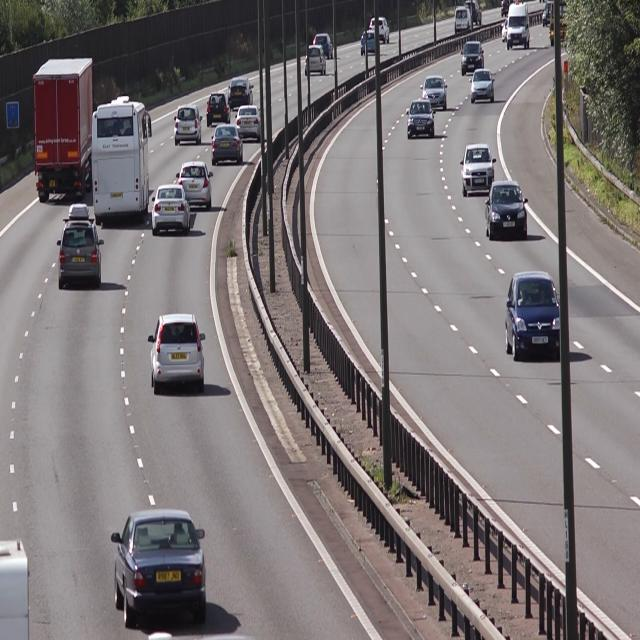Car: (114, 507, 209, 622), (32, 54, 96, 205), (92, 93, 152, 223), (505, 270, 567, 366), (148, 314, 208, 395), (57, 200, 105, 294), (487, 181, 530, 240), (150, 181, 190, 235), (176, 158, 214, 211), (462, 142, 497, 197), (210, 120, 244, 165), (408, 97, 436, 140), (174, 105, 204, 143), (507, 6, 532, 49), (470, 67, 498, 104), (205, 88, 232, 126), (423, 76, 449, 111), (461, 41, 486, 76), (236, 105, 263, 137), (230, 75, 254, 108), (306, 43, 326, 77), (455, 7, 474, 33)
